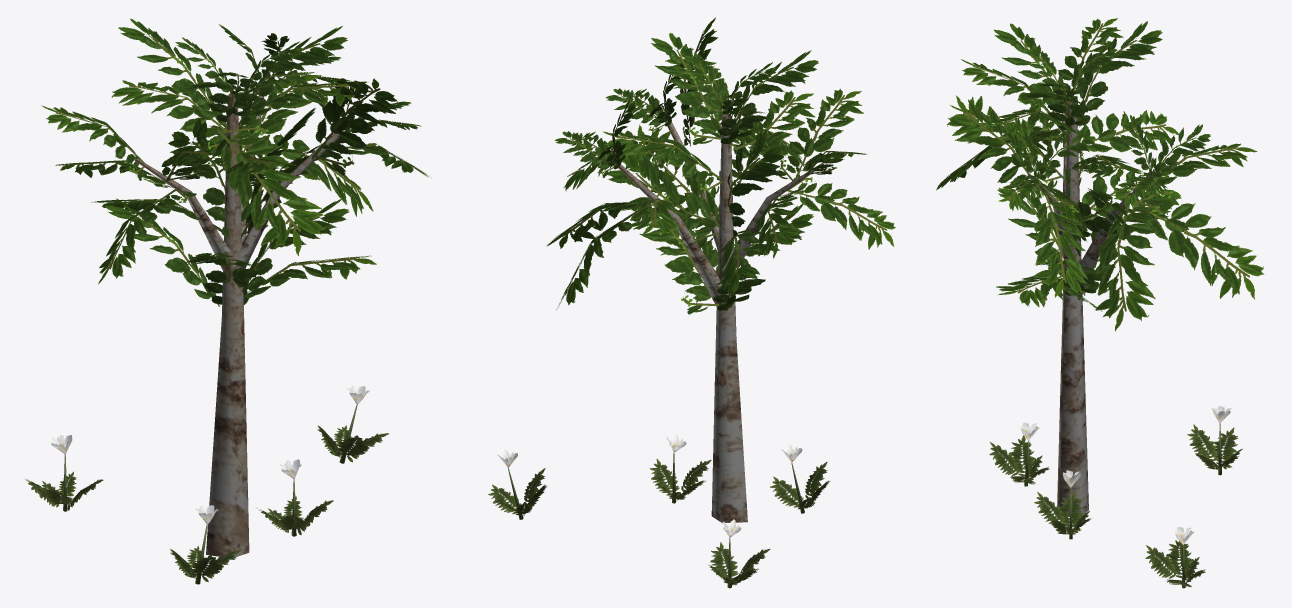
File: birke.dae
3 renders of one model, left to right at view 1: azimuth 30°, elevation 25°; view 2: azimuth 150°, elevation 25°; view 3: azimuth 270°, elevation 25°, orthographic. The views are drawn at different scales.
Parts seen in each view (by area): view 1: Plane; view 2: Plane; view 3: Plane.
Boxes of the visible parts, bbox=[...] form: Plane: bbox=[26, 18, 428, 584]; Plane: bbox=[488, 17, 895, 588]; Plane: bbox=[936, 18, 1264, 588].
Bounding box in the file's own units: 4.97 × 4.09 × 6.09.
Materials: 2 (2 with a texture image).
